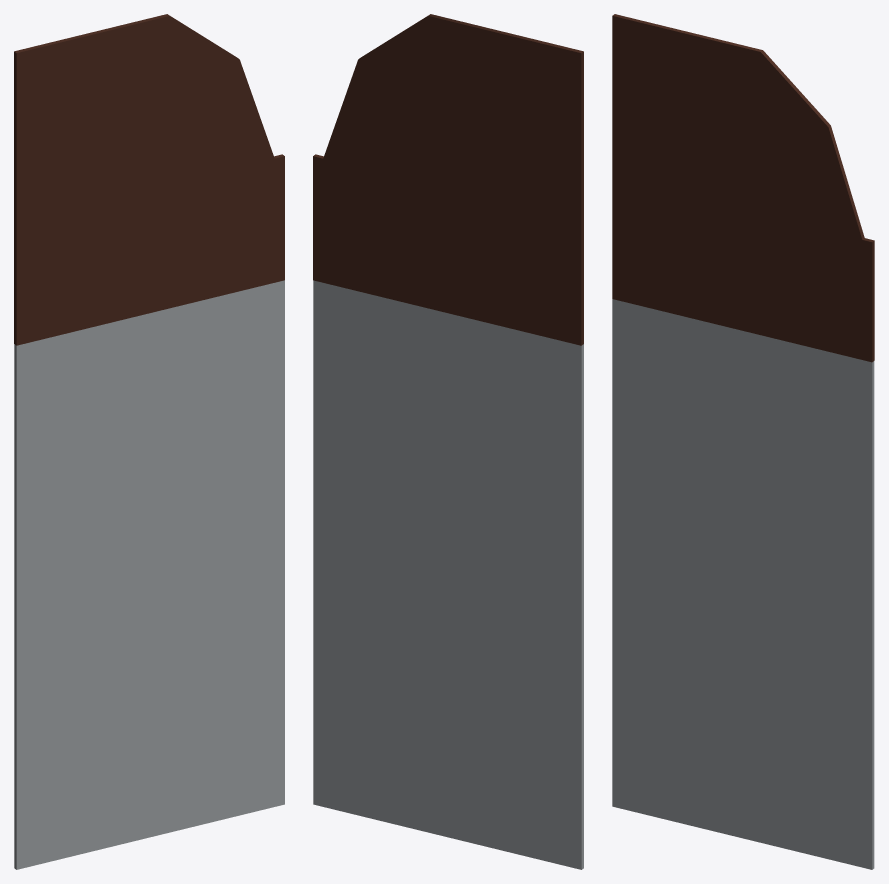
Rendered from door_r_hblx.glb.
The picture shows the model from 3 angles, left to right: view 1: azimuth 30°, elevation 25°; view 2: azimuth 150°, elevation 25°; view 3: azimuth 330°, elevation 25°; orthographic projection. The views are drawn at different scales.
Visible parts, largest first — view 1: Door, DoorTop; view 2: Door, DoorTop; view 3: Door, DoorTop.
Boxes of the visible parts, x1=… form: Door: x1=14, y1=280, x2=284, y2=869; DoorTop: x1=14, y1=14, x2=284, y2=345; Door: x1=313, y1=280, x2=583, y2=869; DoorTop: x1=313, y1=14, x2=583, y2=345; Door: x1=612, y1=299, x2=874, y2=869; DoorTop: x1=612, y1=14, x2=874, y2=362.
Size of the model in its own units: 1.58 by 4.61 by 0.026.
